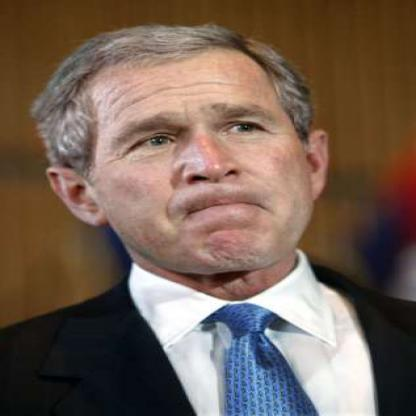face: (76, 25, 312, 281)
